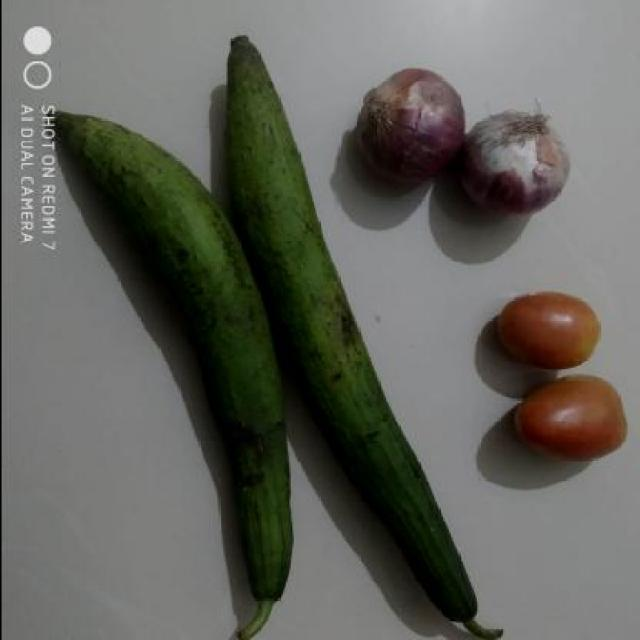2: (453, 105, 569, 224), (352, 63, 459, 192)
tomato: (512, 375, 630, 467), (493, 285, 607, 377)
